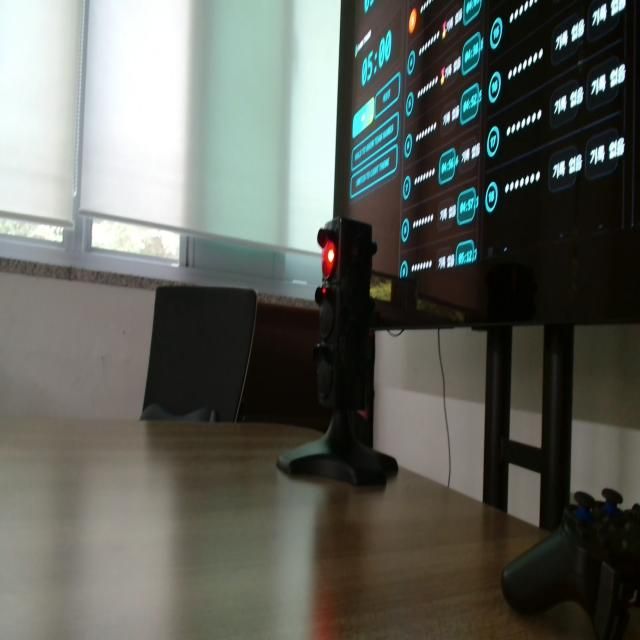red_light: (322, 240, 335, 279), (409, 9, 417, 34)
